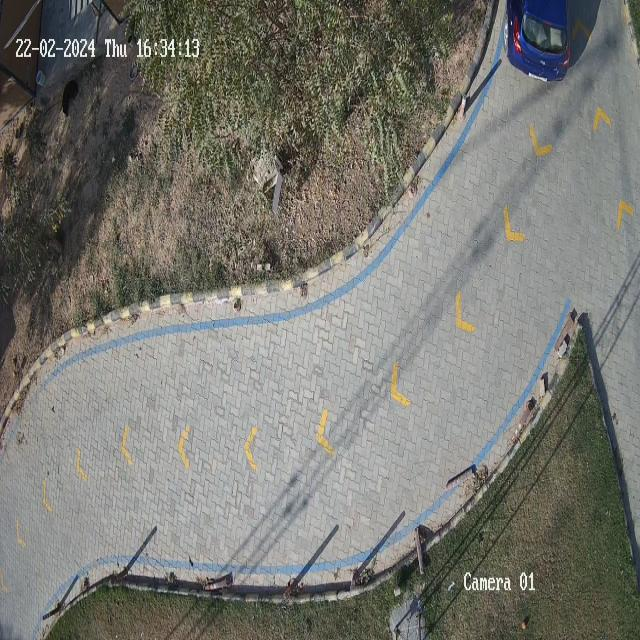car: (503, 0, 571, 83)
